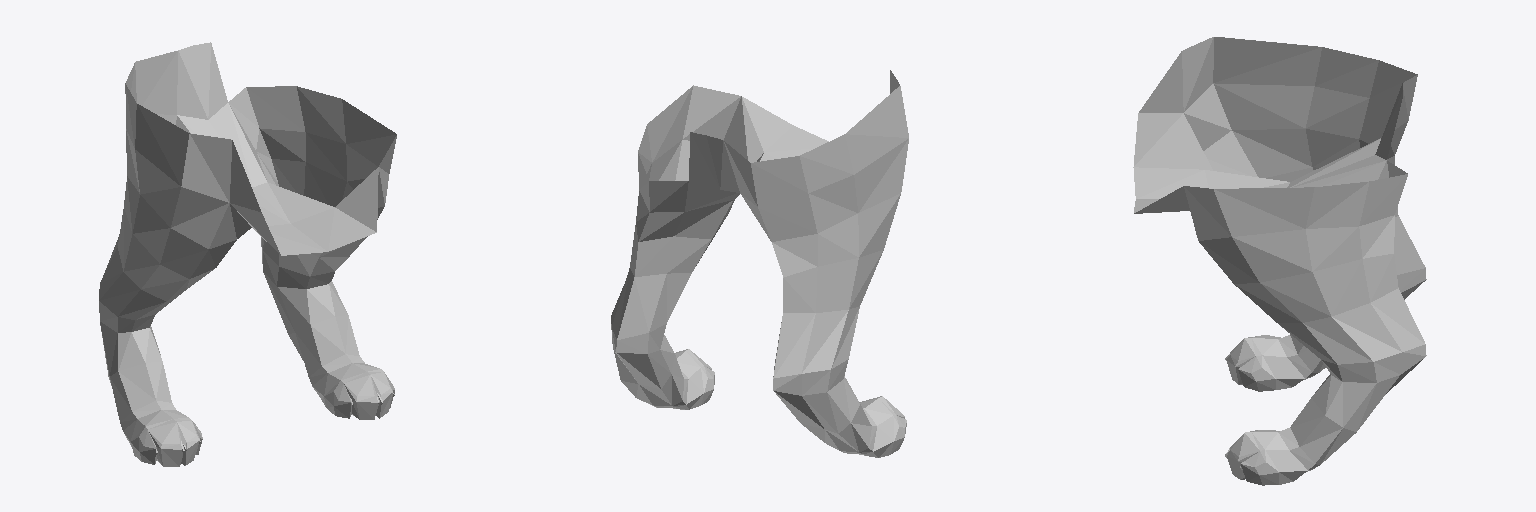
The model's file is rear_legs.obj.
3 views of the same model, side by side, from view 1: azimuth 30°, elevation 25°; view 2: azimuth 150°, elevation 25°; view 3: azimuth 270°, elevation 25° (orthographic).
Bounding box in the file's own units: 0.3346 × 0.4312 × 0.335.